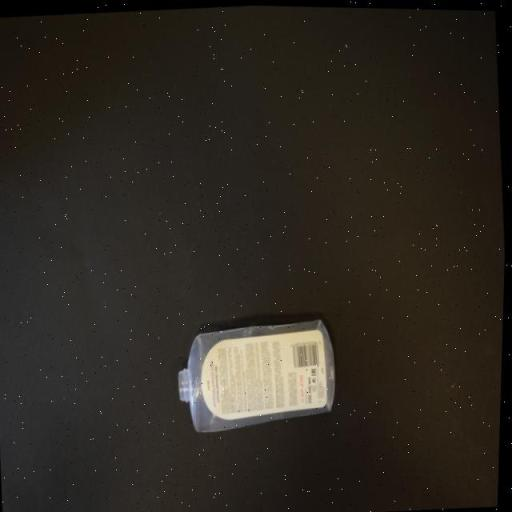plastic: (173, 313, 344, 436)
